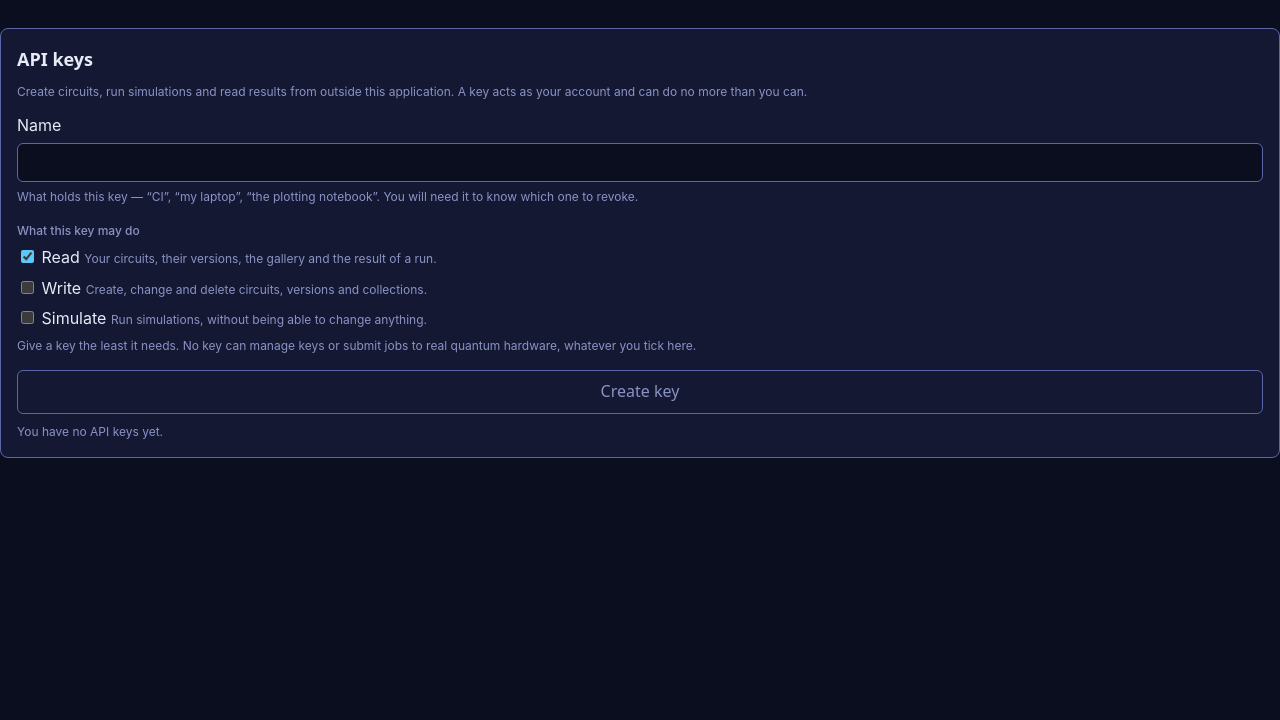
the minted key › is on screen exactly once, in a field a reader can select
Expected: the text "You have no API keys yet." is shown, [17,424,163,439]
Type "CI" into the field labelled "Name" at (640, 163), box [17,143,1263,182]
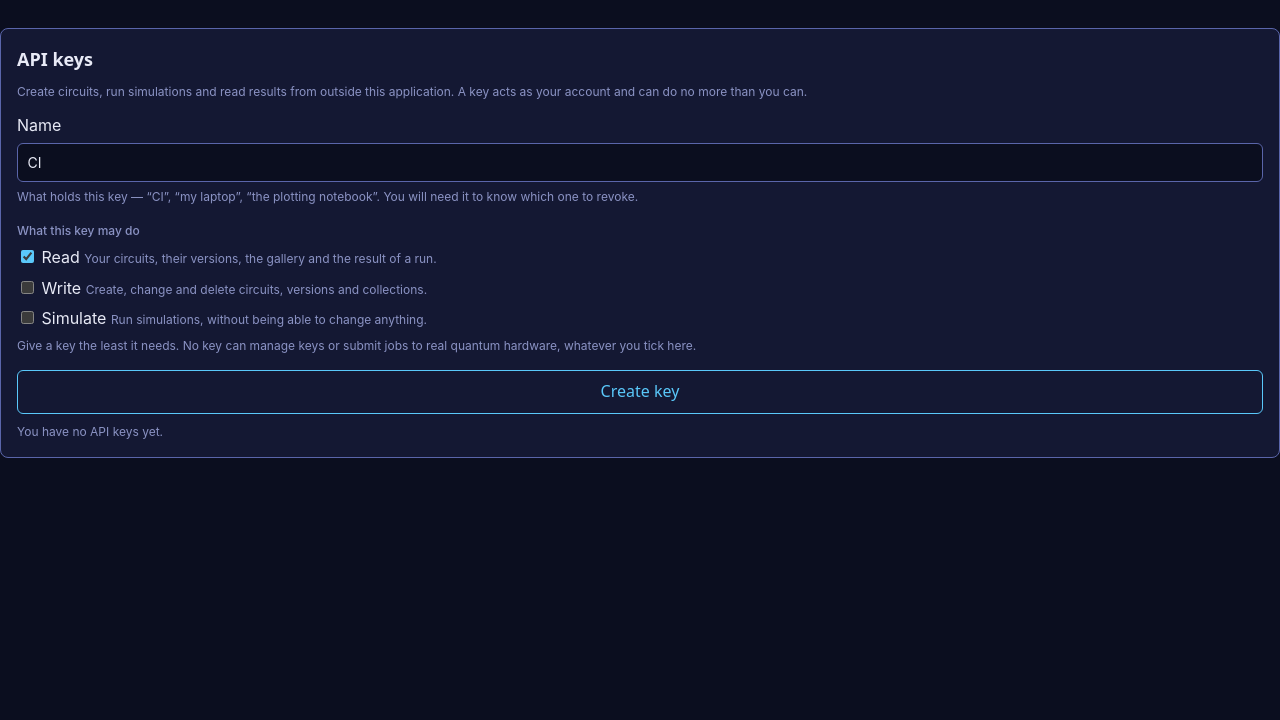
Click the button "Create key" at (640, 392), box [17,370,1263,414]
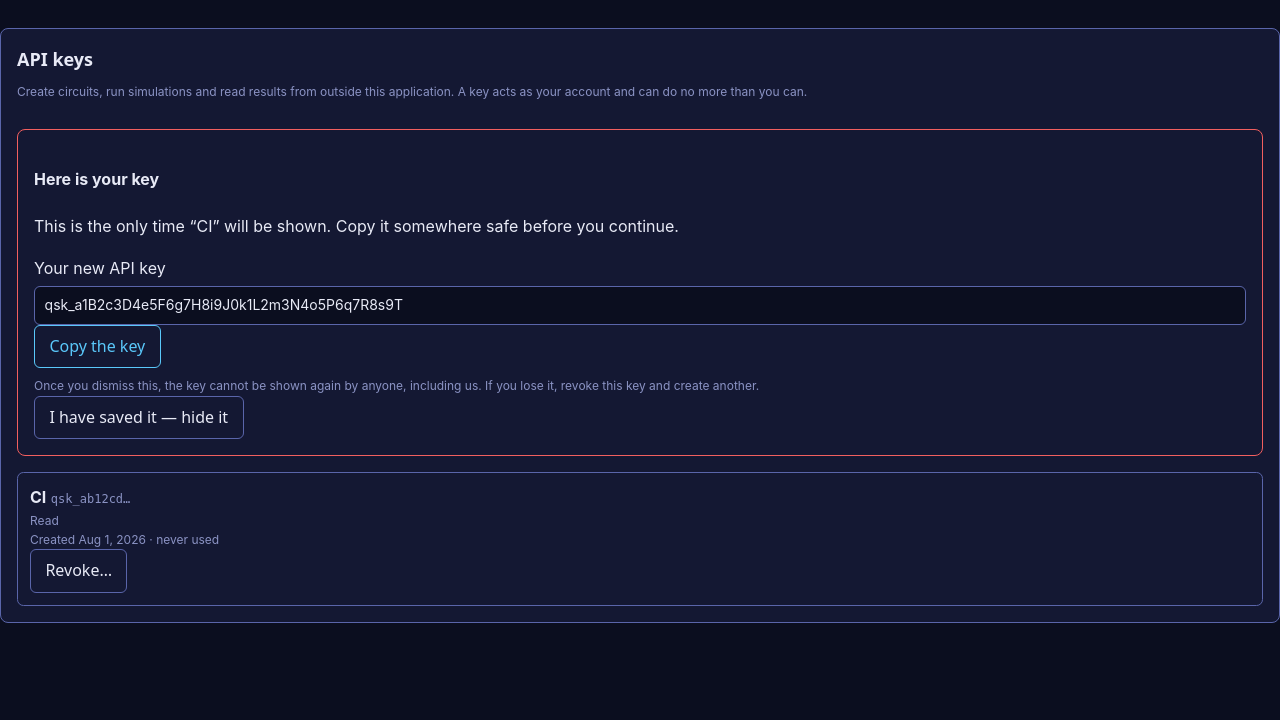
Now the heading "Here is your key" is shown, box [34,169,159,189]
Now the field labelled "Your new API key" is enabled, box [34,286,1246,325]
